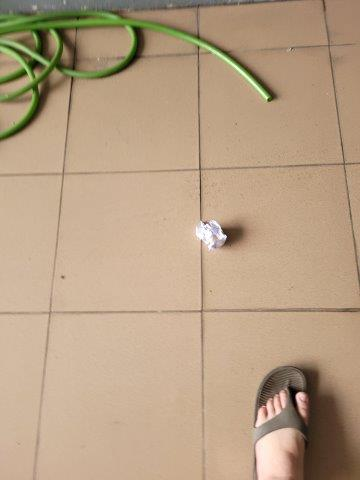kertas: (195, 220, 228, 248)
